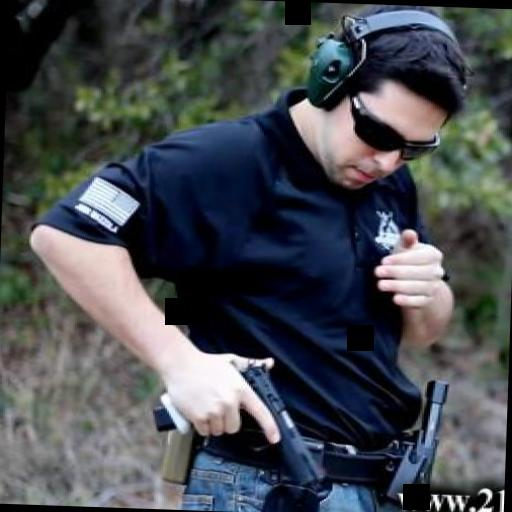Handgun: (144, 342, 329, 484)
